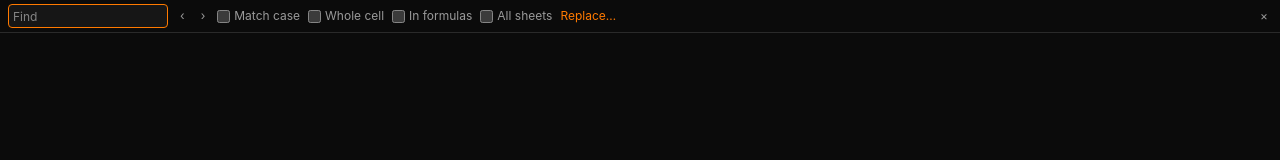
Test: the find strip › searches on Enter and says where it landed
Type "north" into the field labelled "Find" at point(88, 16), box [8,4,168,28]
Then press Enter
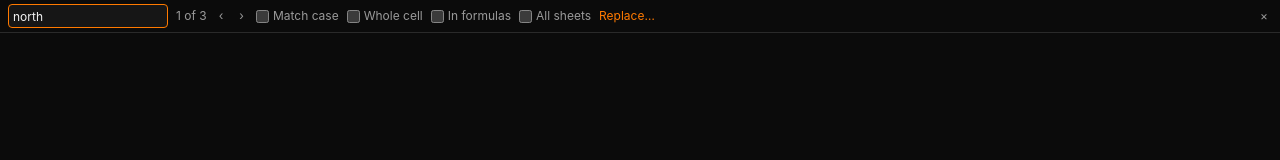
Check: the text "1 of 3" is shown, box [176,8,207,24]
